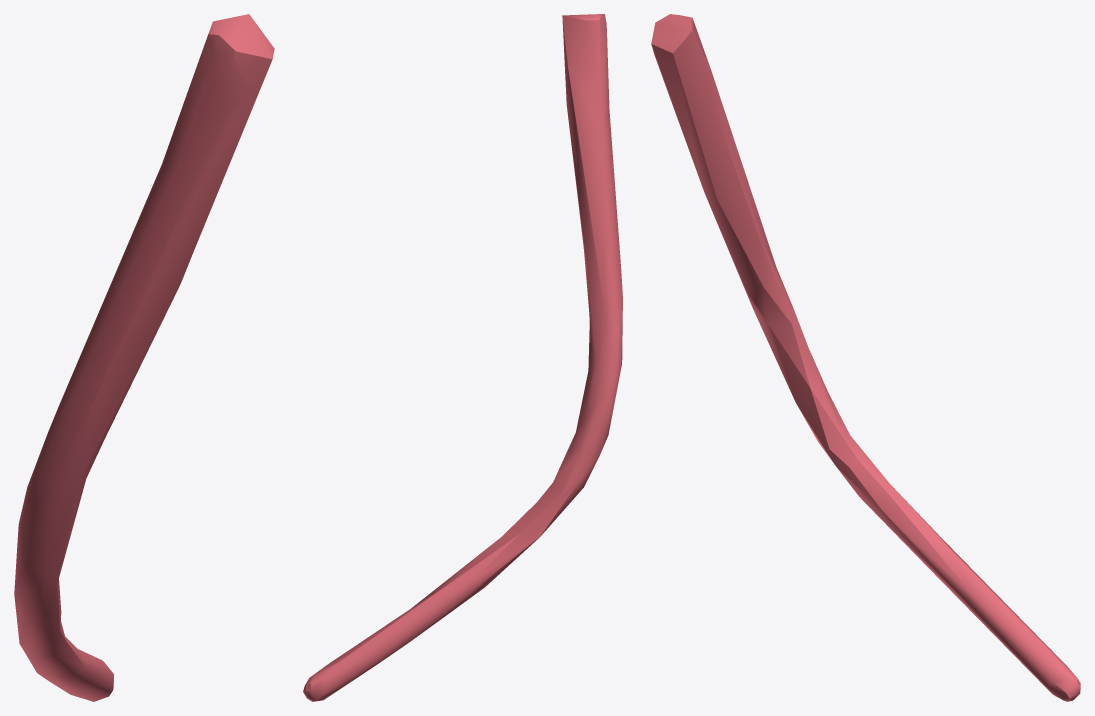
Rendered from fma18887_fj3572.glb.
The picture shows the model from 3 angles, left to right: view 1: azimuth 30°, elevation 25°; view 2: azimuth 150°, elevation 25°; view 3: azimuth 270°, elevation 25°; orthographic projection. The views are drawn at different scales.
Visible parts, largest first — view 1: FMA18887_FJ3572; view 2: FMA18887_FJ3572; view 3: FMA18887_FJ3572.
Boxes of the visible parts, box(x1,y1,x2,y2) form: FMA18887_FJ3572: box(14, 14, 274, 701); FMA18887_FJ3572: box(303, 14, 622, 701); FMA18887_FJ3572: box(651, 14, 1080, 701).
Bounding box in the file's own units: 0.022 × 0.0663 × 0.0409.
